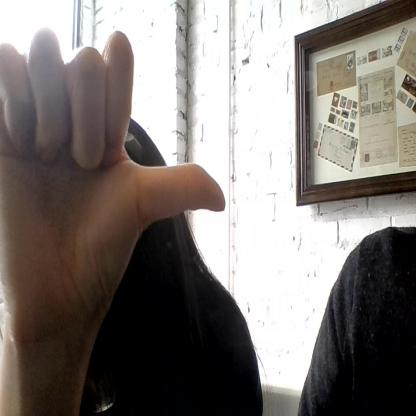left: (0, 24, 228, 303)
